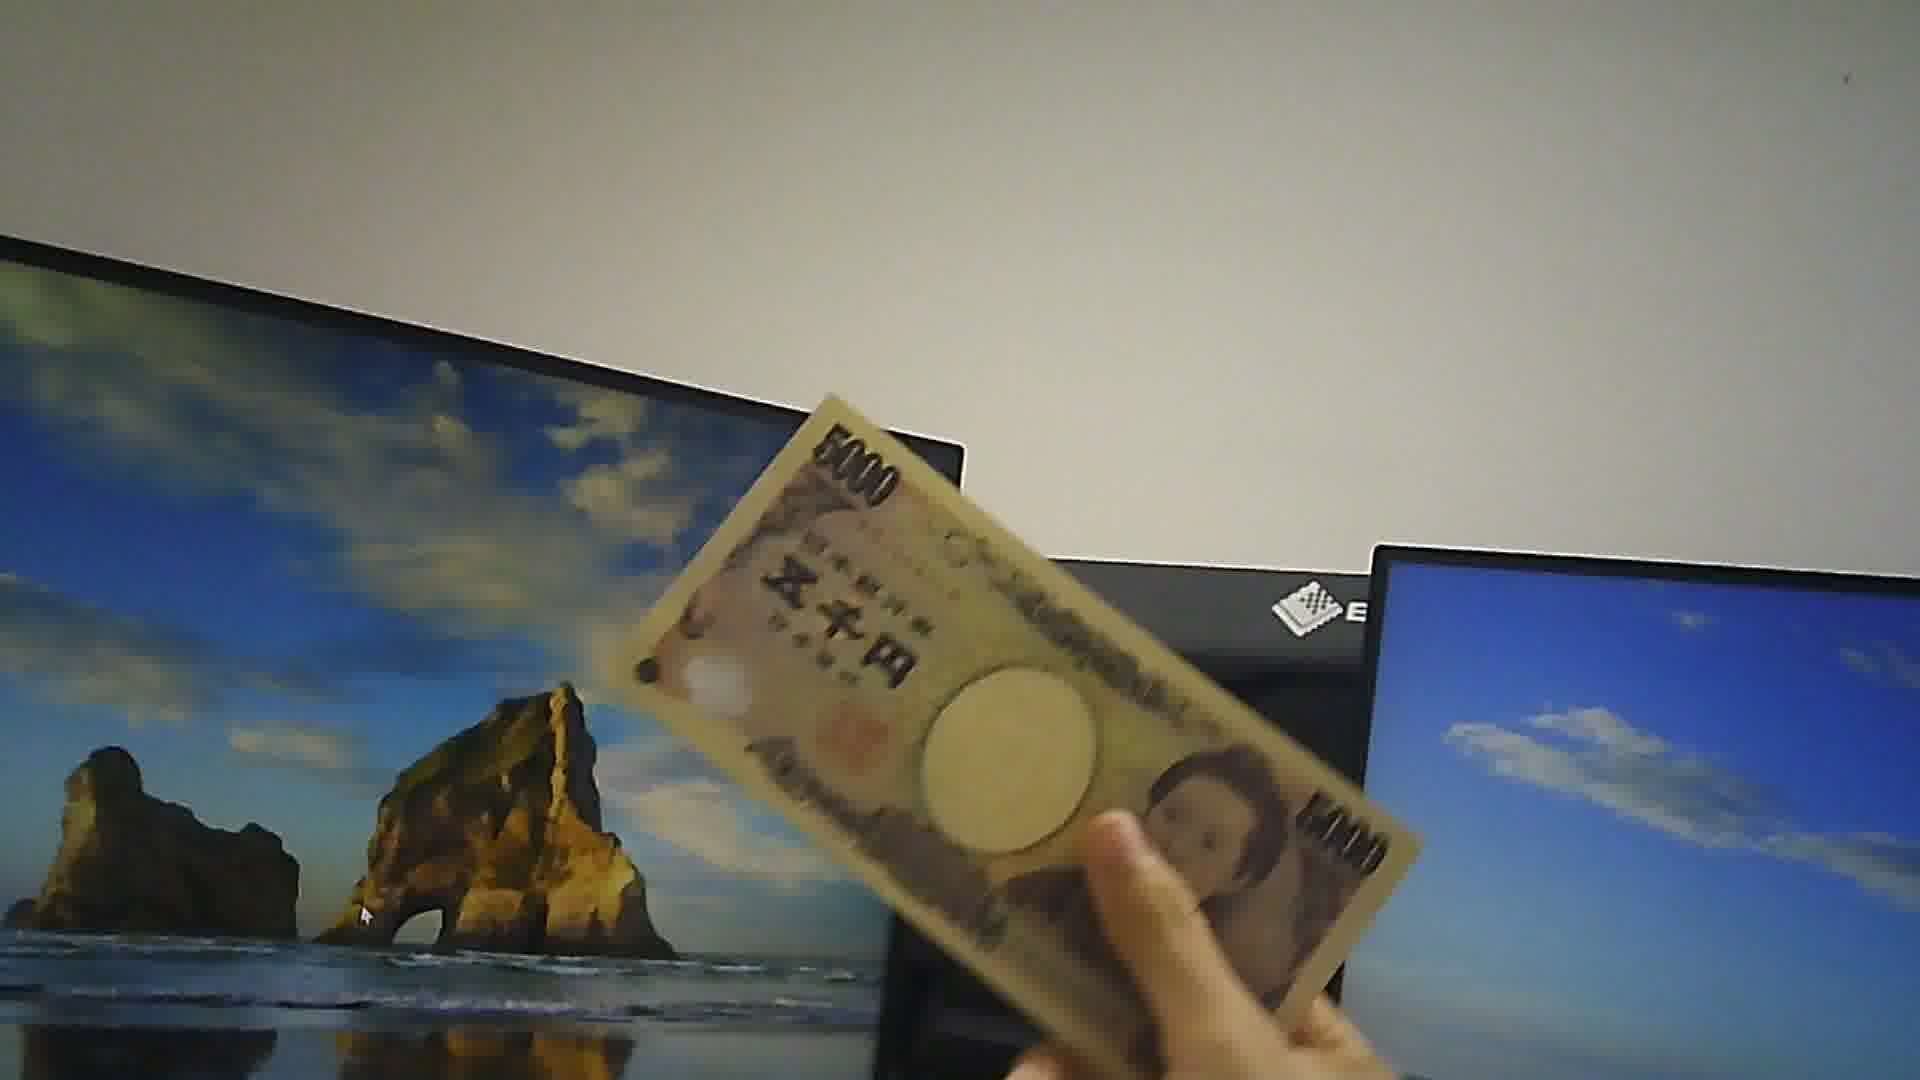5,000 Yen: (597, 375, 1410, 1065)
